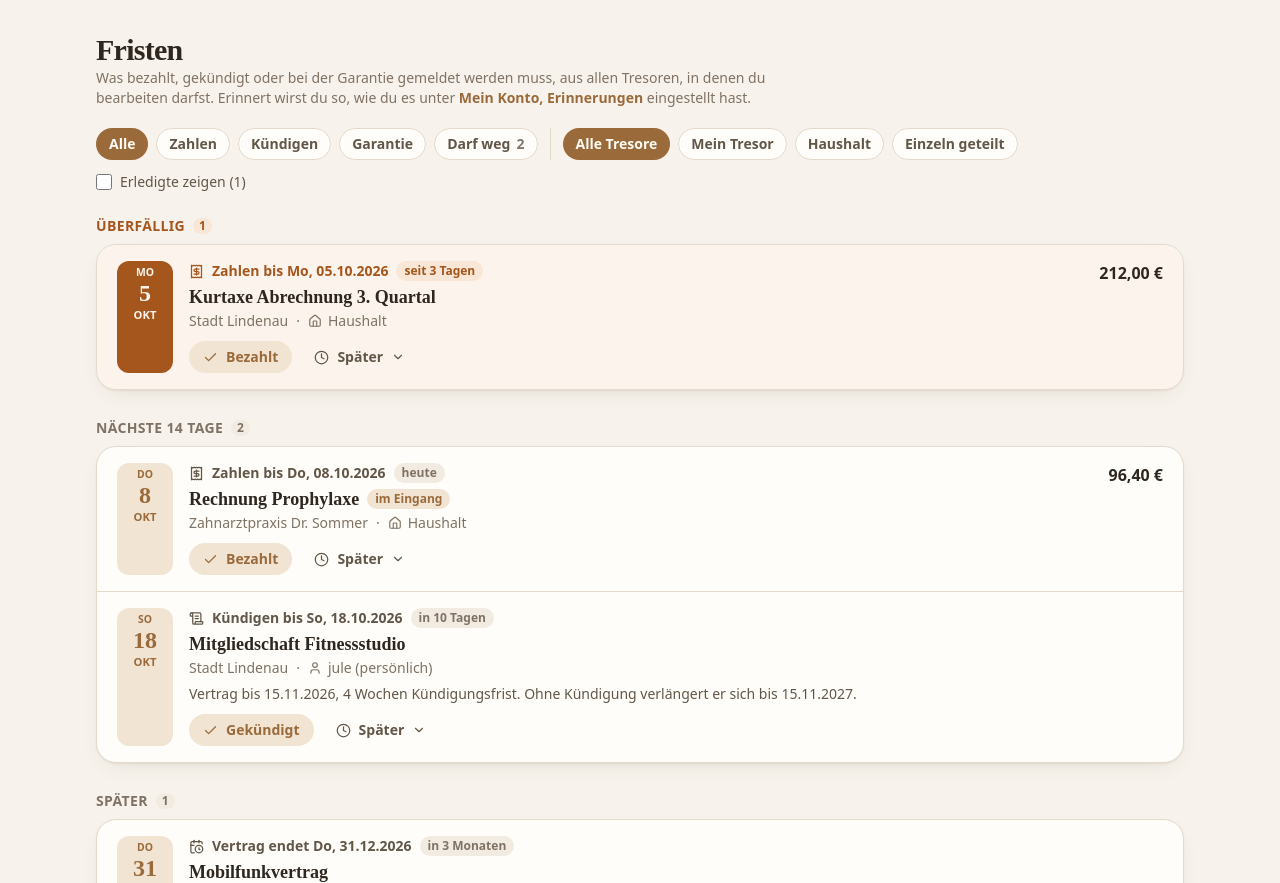
Test case: may go ("Darf weg") on the deadlines page › has nothing for what is seen through a share alone, and the chip keeps the whole number
Click the button "Darf weg 2": (486, 144) [434,128,538,160]
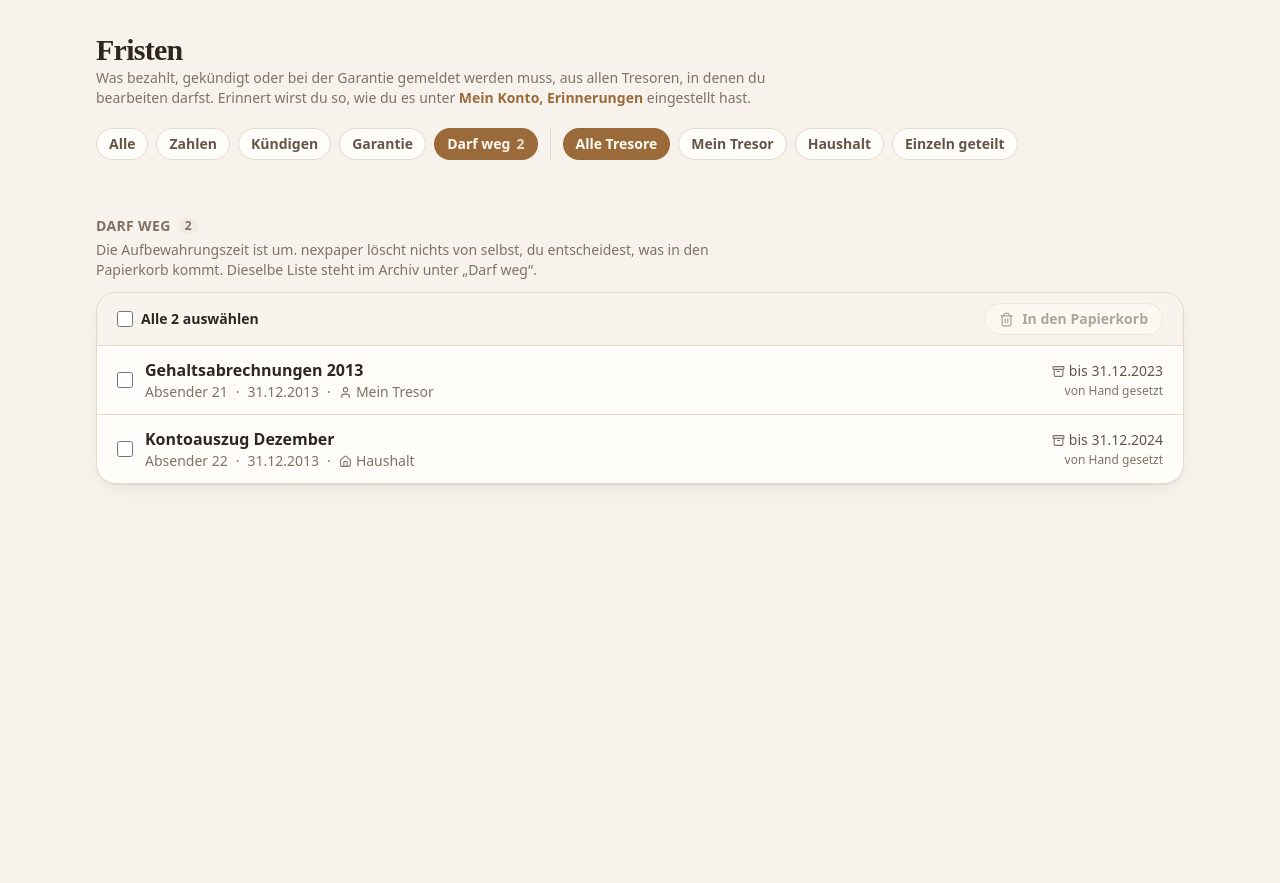
Click the button "Einzeln geteilt": (955, 144) [892,128,1018,160]
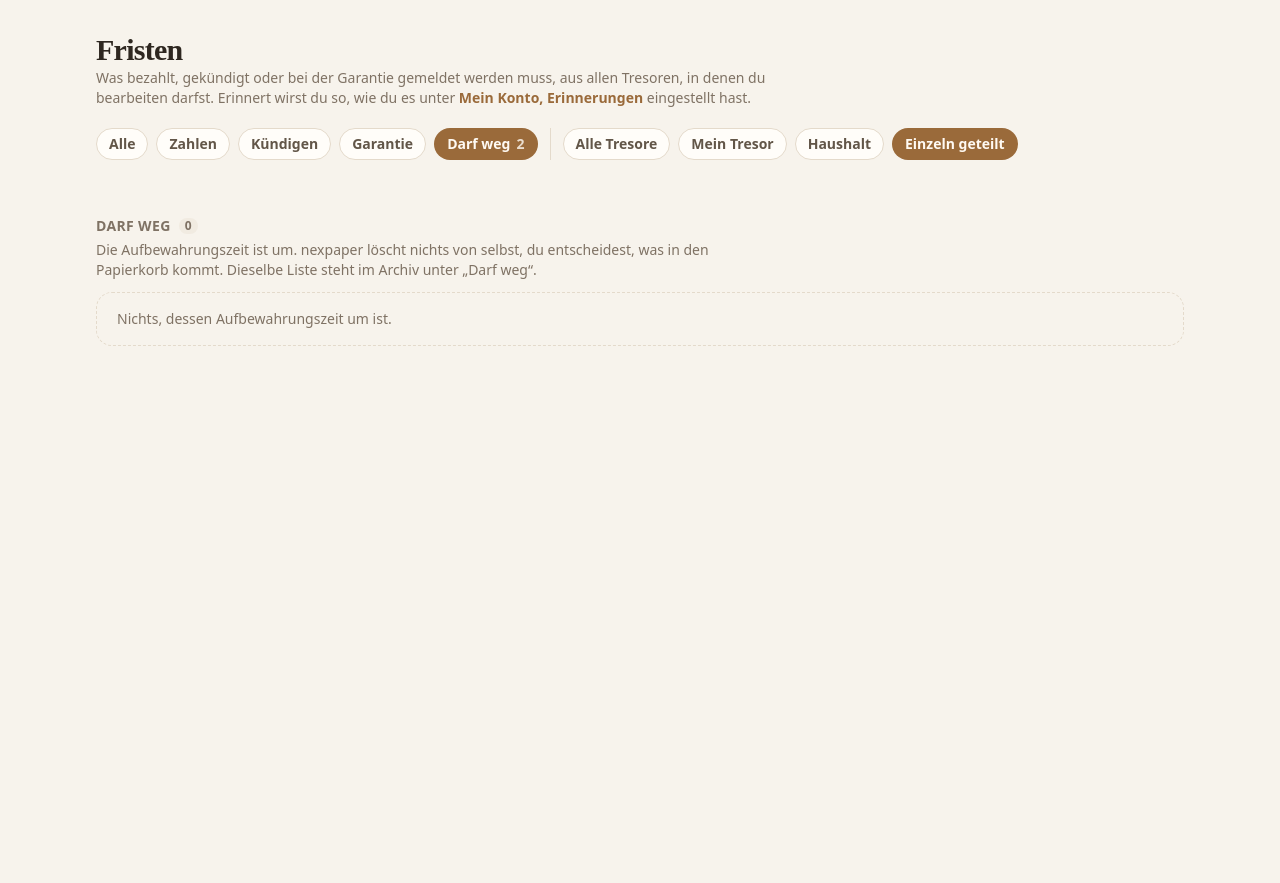
Expected: the button "Darf weg 2" is shown, [434,128,538,160]
Now the text "Gehaltsabrechnungen 2013" is gone
Now the text "Nichts, dessen Aufbewahrungszeit um ist." is shown, box [96,292,1184,346]
